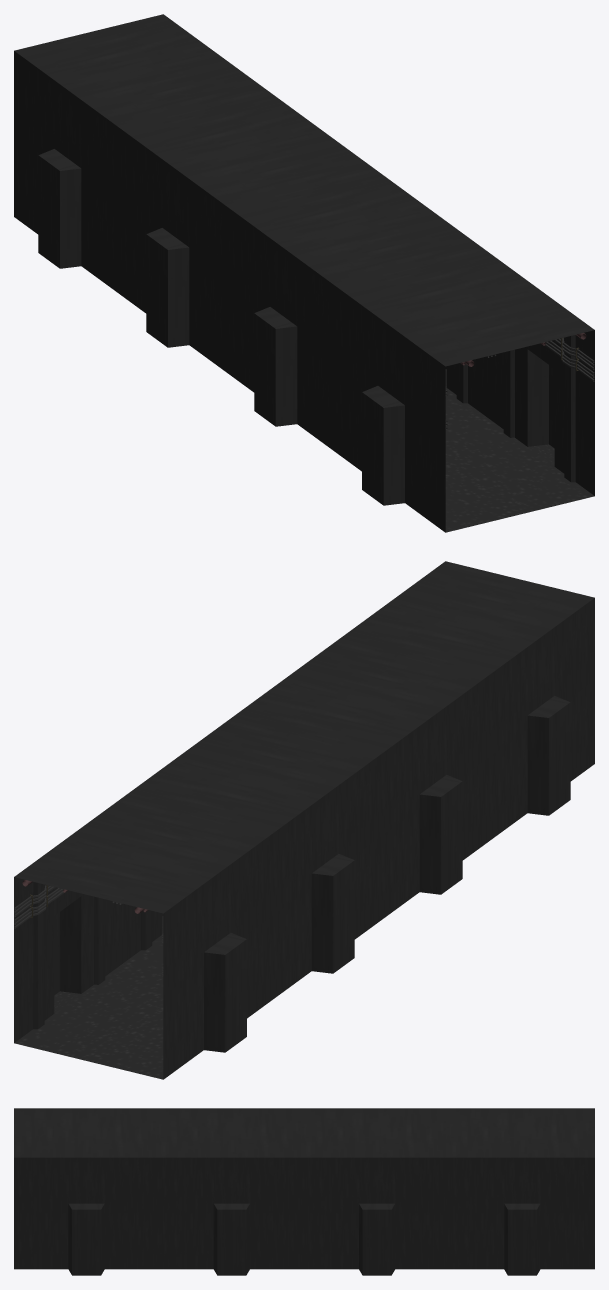
The model's file is SW_ENV_RailTunnel_B_02_Single_20m_FF.fbx.
3 renders of one model, top to bottom at view 1: azimuth 30°, elevation 25°; view 2: azimuth 150°, elevation 25°; view 3: azimuth 270°, elevation 25°, orthographic. The views are drawn at different scales.
Parts seen in each view (by area): view 1: SW_ENV_RailTunnel_B_02_Single_20m_FF; view 2: SW_ENV_RailTunnel_B_02_Single_20m_FF; view 3: SW_ENV_RailTunnel_B_02_Single_20m_FF.
Boxes of the visible parts, x1,y1,x2,y2 form: SW_ENV_RailTunnel_B_02_Single_20m_FF: (14,14,594,532); SW_ENV_RailTunnel_B_02_Single_20m_FF: (14,561,594,1079); SW_ENV_RailTunnel_B_02_Single_20m_FF: (14,1108,594,1275).
Bounding box in the file's own units: 5 × 4.25 × 20.
